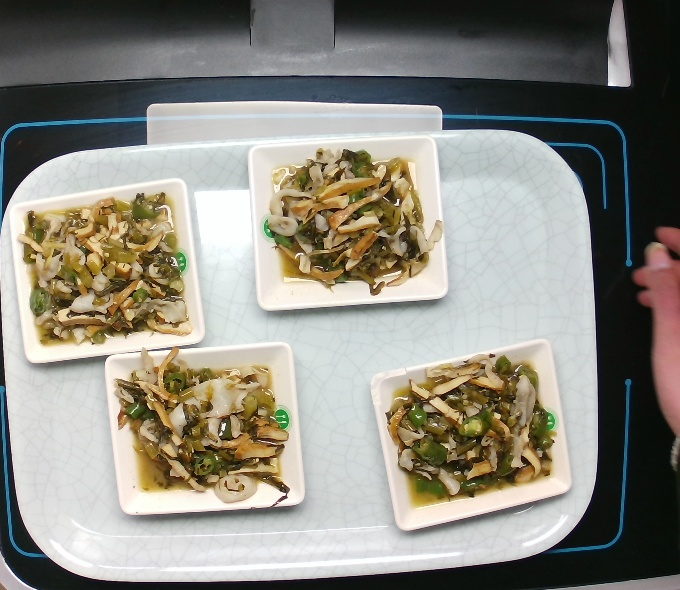wcq-YouYuXueCaiDouGan: (119, 353, 294, 504), (20, 191, 196, 340), (267, 145, 434, 293), (387, 357, 557, 500)
